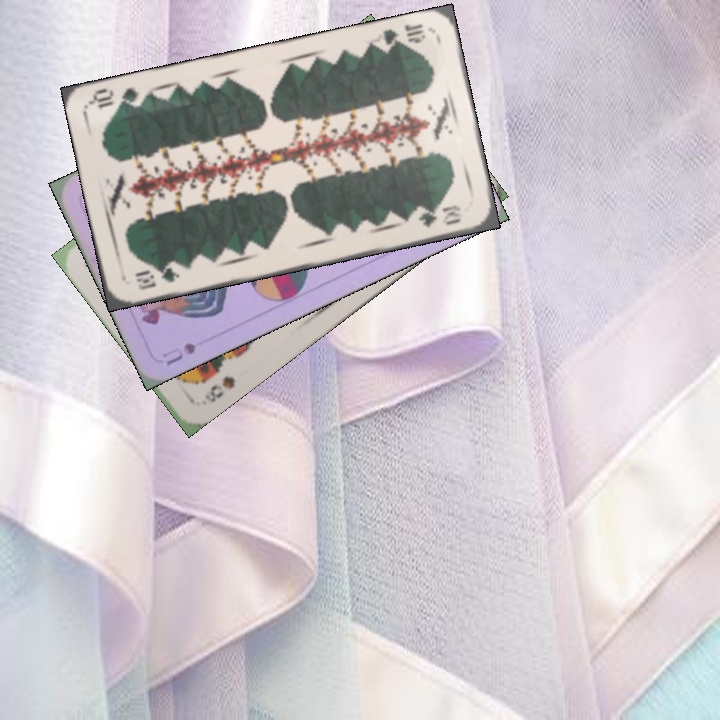G10: (372, 20, 428, 54), (131, 262, 182, 293)
S8: (200, 371, 238, 406)
SU: (158, 338, 199, 368)
